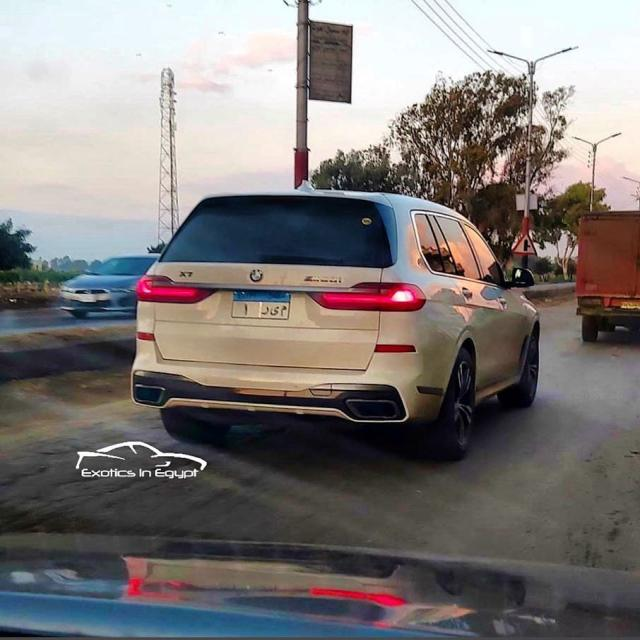License Plate: (228, 287, 293, 321)
